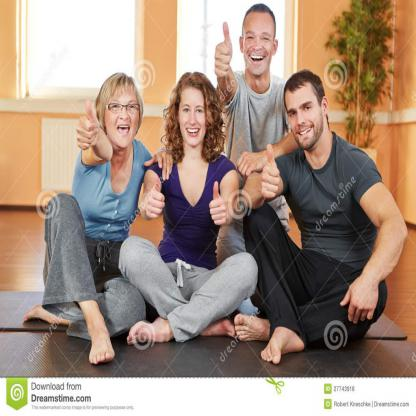face: (286, 85, 322, 152), (105, 89, 141, 150), (244, 12, 274, 77), (179, 89, 207, 148)
